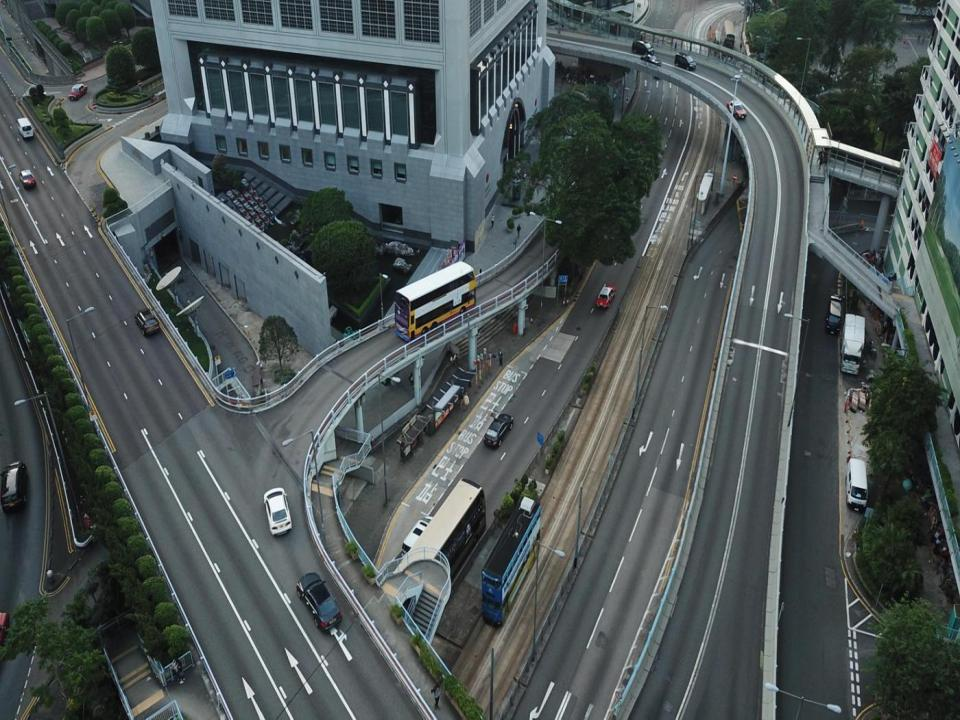bus: (379, 479, 486, 619), (480, 496, 540, 628), (395, 262, 475, 344), (375, 315, 420, 387), (721, 20, 734, 50)
car: (296, 572, 342, 630), (1, 462, 28, 514), (264, 487, 292, 536), (484, 414, 513, 449), (134, 308, 159, 335), (596, 285, 616, 309), (727, 99, 746, 118), (68, 84, 88, 101), (20, 169, 36, 189), (640, 54, 661, 66), (107, 72, 119, 83)
truck: (841, 314, 864, 374), (826, 294, 842, 334)
van: (403, 516, 436, 558), (846, 458, 868, 512), (674, 53, 695, 70), (632, 40, 654, 56), (17, 117, 32, 139)
